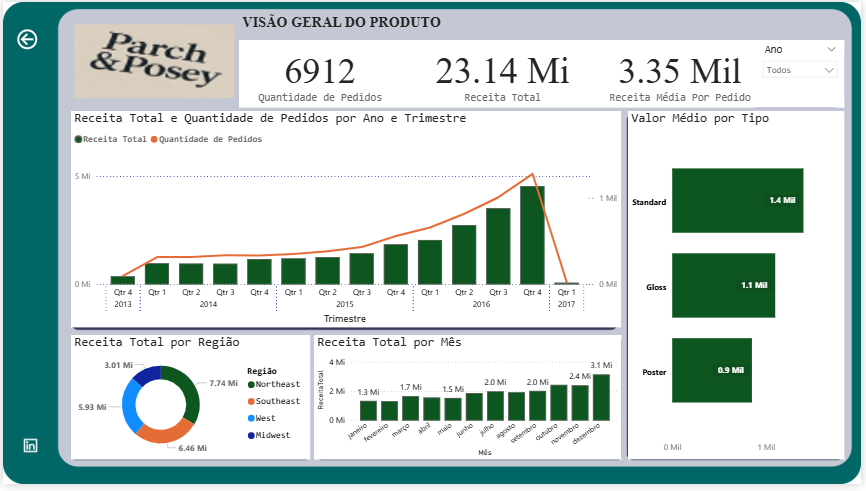

The page's visual inventory and layout, read from the dashboard file:
{"tool":"powerbi","page":{"name":"Página 1","canvas":[1280,720],"ordinal":1},"visuals":[{"type":"card","fields":{"Values":["Medidas.ReceitaTotal"]},"box":[593.9,56.7,303.3,100.6],"z":0},{"type":"card","fields":{"Values":["Medidas.QuantidadeDePedidos"]},"box":[351.5,56.7,242.4,100.6],"z":1000},{"type":"card","fields":{"Values":["Medidas.ReceitaMediaPorPedido"]},"box":[897.2,56.7,226.8,100.6],"z":2000},{"type":"donutChart","title":"Receita Total por Região","fields":{"Category":["region.name"],"Y":["Medidas_Cliente.ReceitaTotal"]},"box":[102,497.5,357.2,185.7],"z":3000},{"type":"lineClusteredColumnComboChart","fields":{"Category":["orders.occurred_date.Variation.Hierarquia de datas.Ano","orders.occurred_date.Variation.Hierarquia de datas.Trimestre","orders.occurred_date.Variation.Hierarquia de datas.Mês","orders.occurred_date.Variation.Hierarquia de datas.Dia"],"Y":["Medidas_Cliente.ReceitaTotal"],"Y2":["Medidas_Cliente.QuantidadeDePedidos"]},"box":[102,163,820.6,323.1],"z":4000},{"type":"clusteredBarChart","fields":{"Category":["TipoProduto.Tipo"],"Y":["Medidas_Pedidos.MediaValorPorTipo"]},"box":[932.6,163,323.1,520.2],"z":5000},{"type":"textbox","box":[351.5,12.8,323.1,43.9],"z":6000},{"type":"slicer","fields":{"Values":["orders.occurred_date.Variation.Hierarquia de datas.Ano"]},"box":[1123.9,56.7,131.8,100.6],"z":7000},{"type":"image","box":[102,12.8,249.4,150.2],"z":8000},{"type":"clusteredColumnChart","title":"Receita Total por Mês","fields":{"Y":["Medidas_Cliente.ReceitaTotal"],"Category":["orders.occurred_date.Variation.Hierarquia de datas.Mês"]},"box":[463.5,497.5,459.2,185.7],"z":9000},{"type":"actionButton","box":[17,35.4,42.5,39.7],"z":10000},{"type":"actionButton","box":[473.1,681.5,42.3,39.2],"z":11000}]}

Visuals, with their boxes in screenshot pixels (x1, y1, x2, y2), scaled from the page's 1280x720 canvas onto the 866x491 screenshot:
card - Medidas.ReceitaTotal: <region>402, 39, 607, 107</region>
card - Medidas.QuantidadeDePedidos: <region>238, 39, 402, 107</region>
card - Medidas.ReceitaMediaPorPedido: <region>607, 39, 760, 107</region>
"Receita Total por Região" donutChart: <region>69, 339, 311, 466</region>
lineClusteredColumnComboChart - orders.occurred_date.Variation.Hierarquia de datas.Ano x orders.occurred_date.Variation.Hierarquia de datas.Trimestre: <region>69, 111, 624, 331</region>
clusteredBarChart - TipoProduto.Tipo x Medidas_Pedidos.MediaValorPorTipo: <region>631, 111, 850, 466</region>
textbox: <region>238, 9, 456, 39</region>
slicer - orders.occurred_date.Variation.Hierarquia de datas.Ano: <region>760, 39, 850, 107</region>
image: <region>69, 9, 238, 111</region>
"Receita Total por Mês" clusteredColumnChart: <region>314, 339, 624, 466</region>
actionButton: <region>12, 24, 40, 51</region>
actionButton: <region>320, 465, 349, 490</region>
